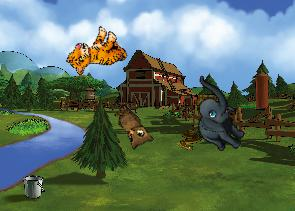elephant: (173, 74, 261, 158)
owl: (104, 103, 157, 155)
tiger: (62, 19, 132, 89)
